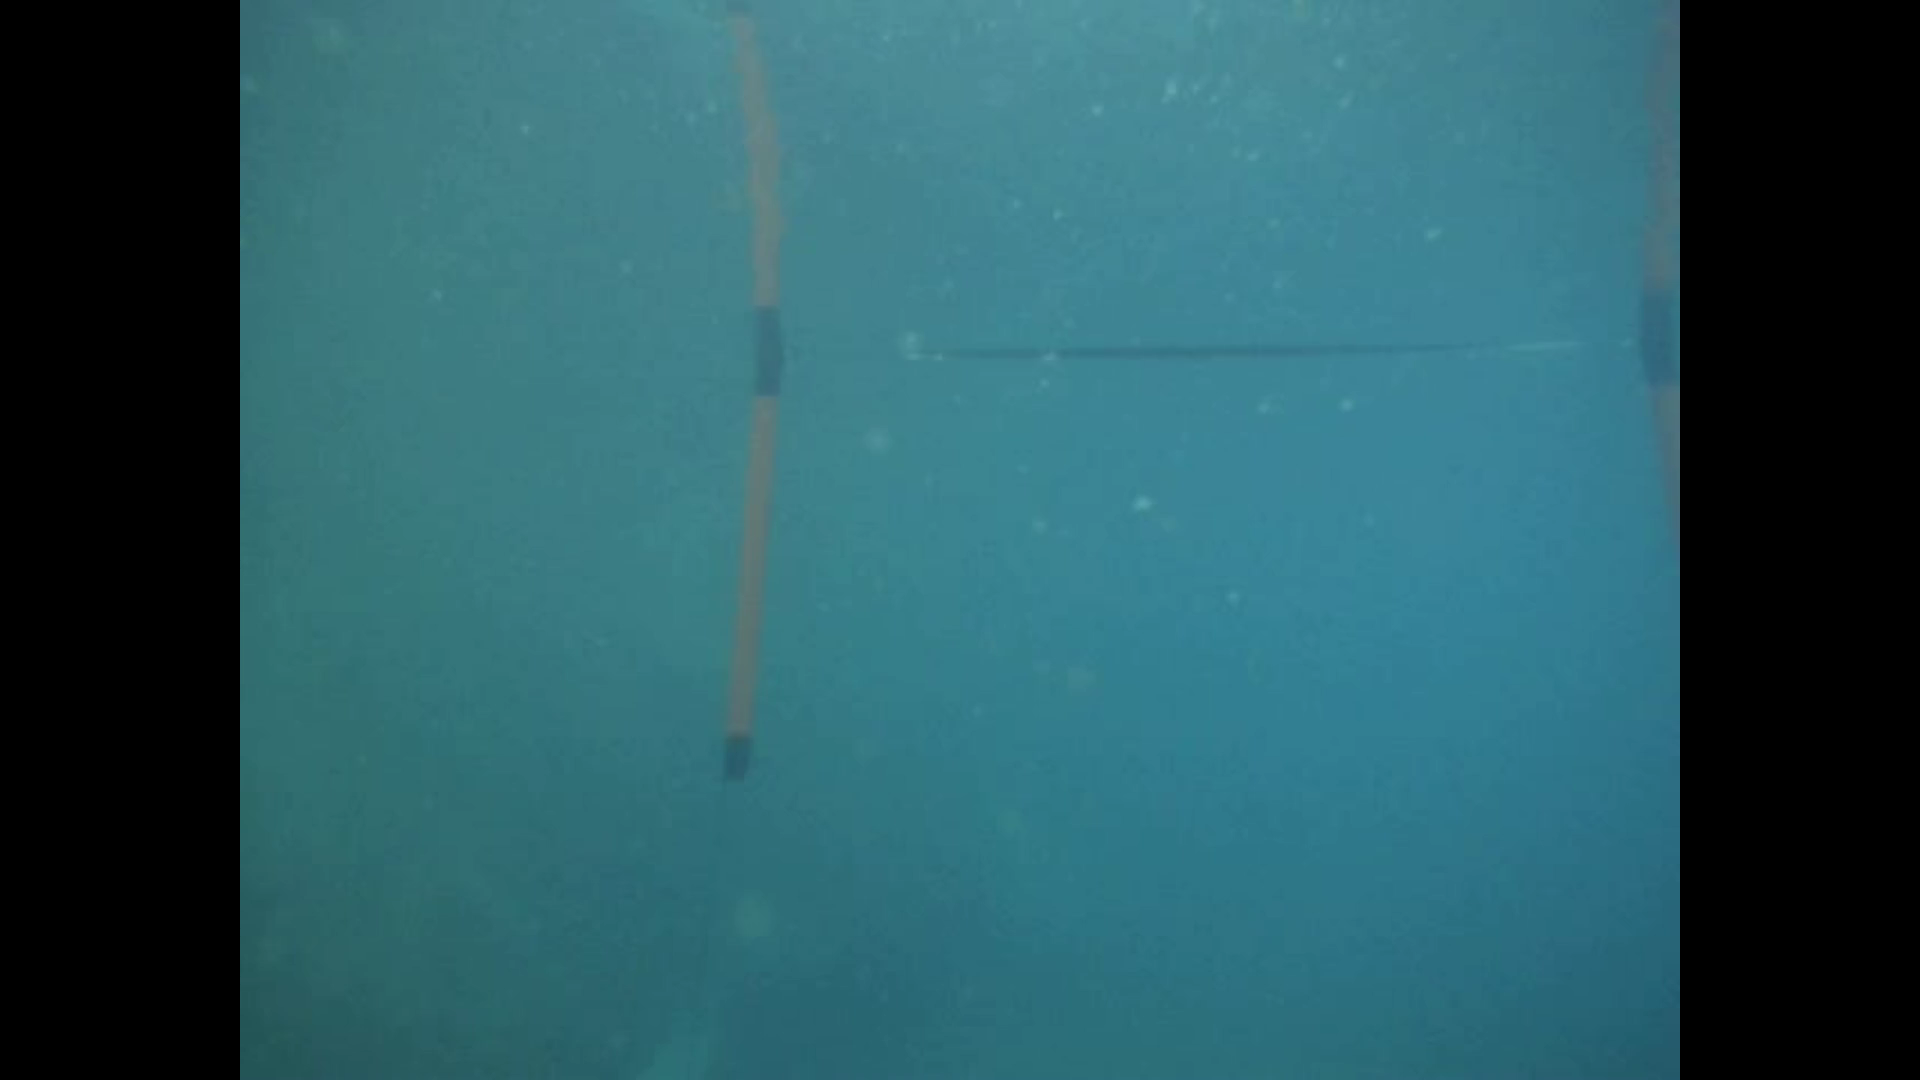gate: (711, 320, 1681, 793)
